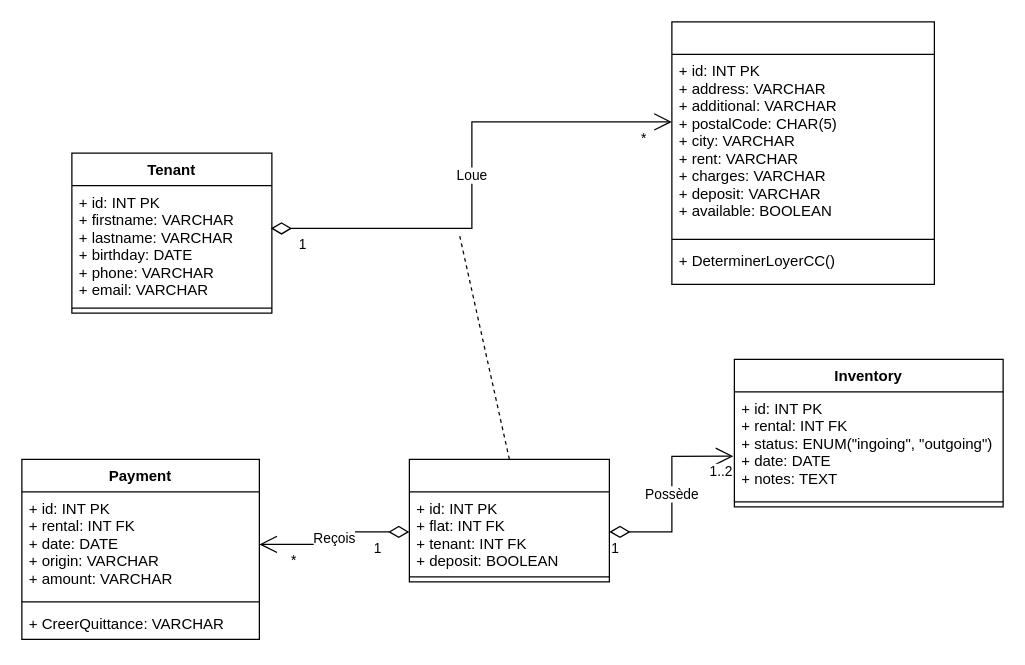
Some shapes in this 1025 by 665 pixel diagram are drawn without their labels. The shapes that lost their labels are listed below. From the top down, each one's box as (x1, y1, x2, y2) in pixels, then its label:
(671, 21, 934, 284): Property
(408, 458, 609, 582): Rental
